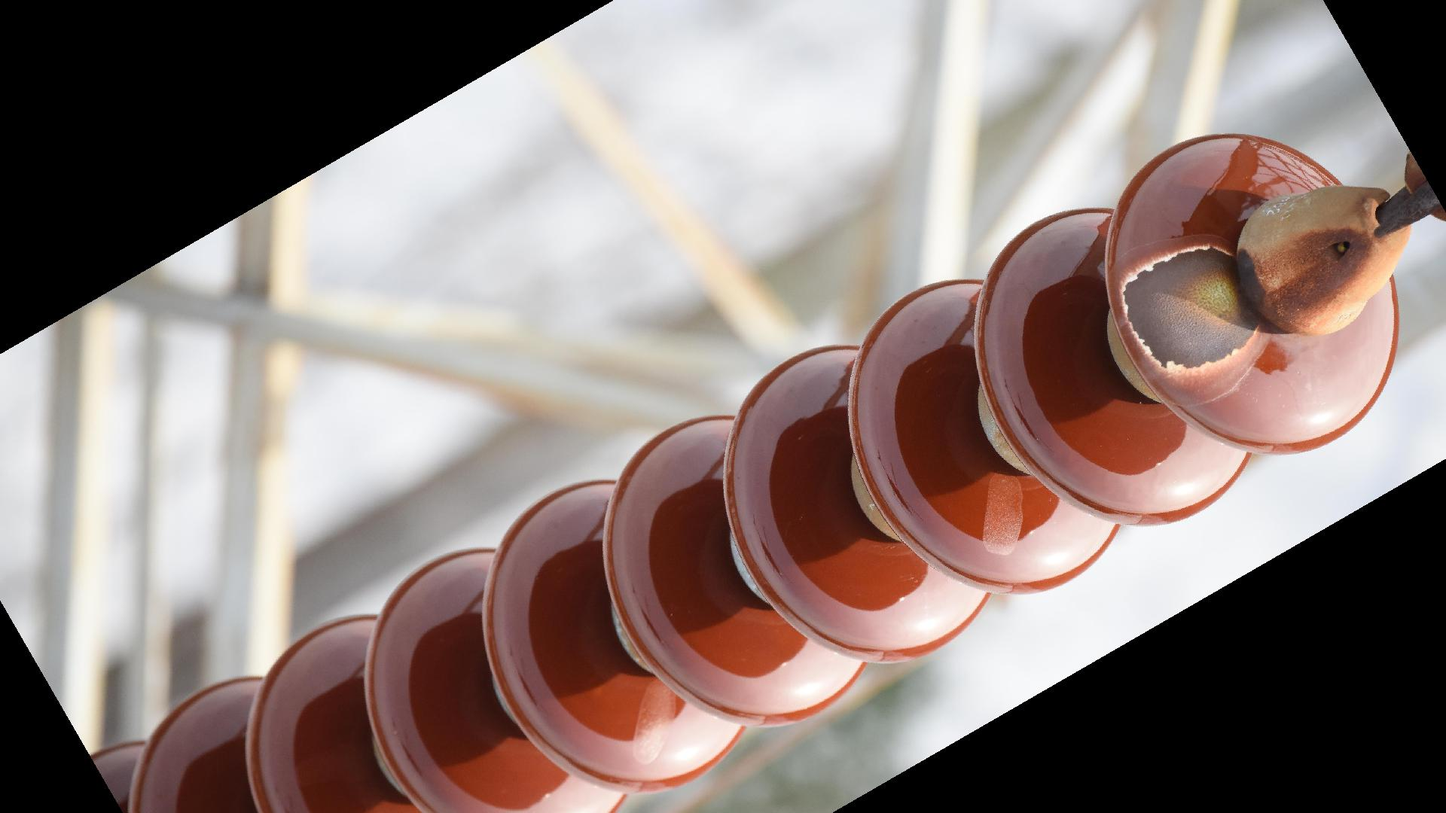insulator: (91, 128, 1406, 813)
insulator_flashover: (1118, 242, 1264, 375)
